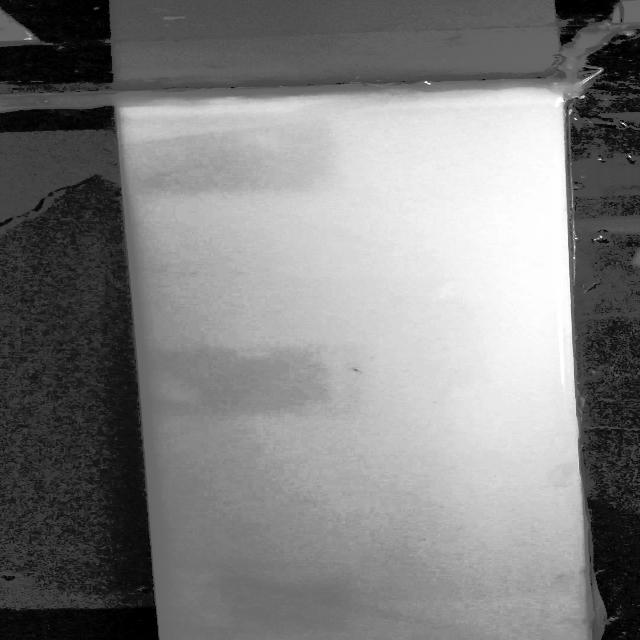shrimp: (341, 364, 380, 378)
